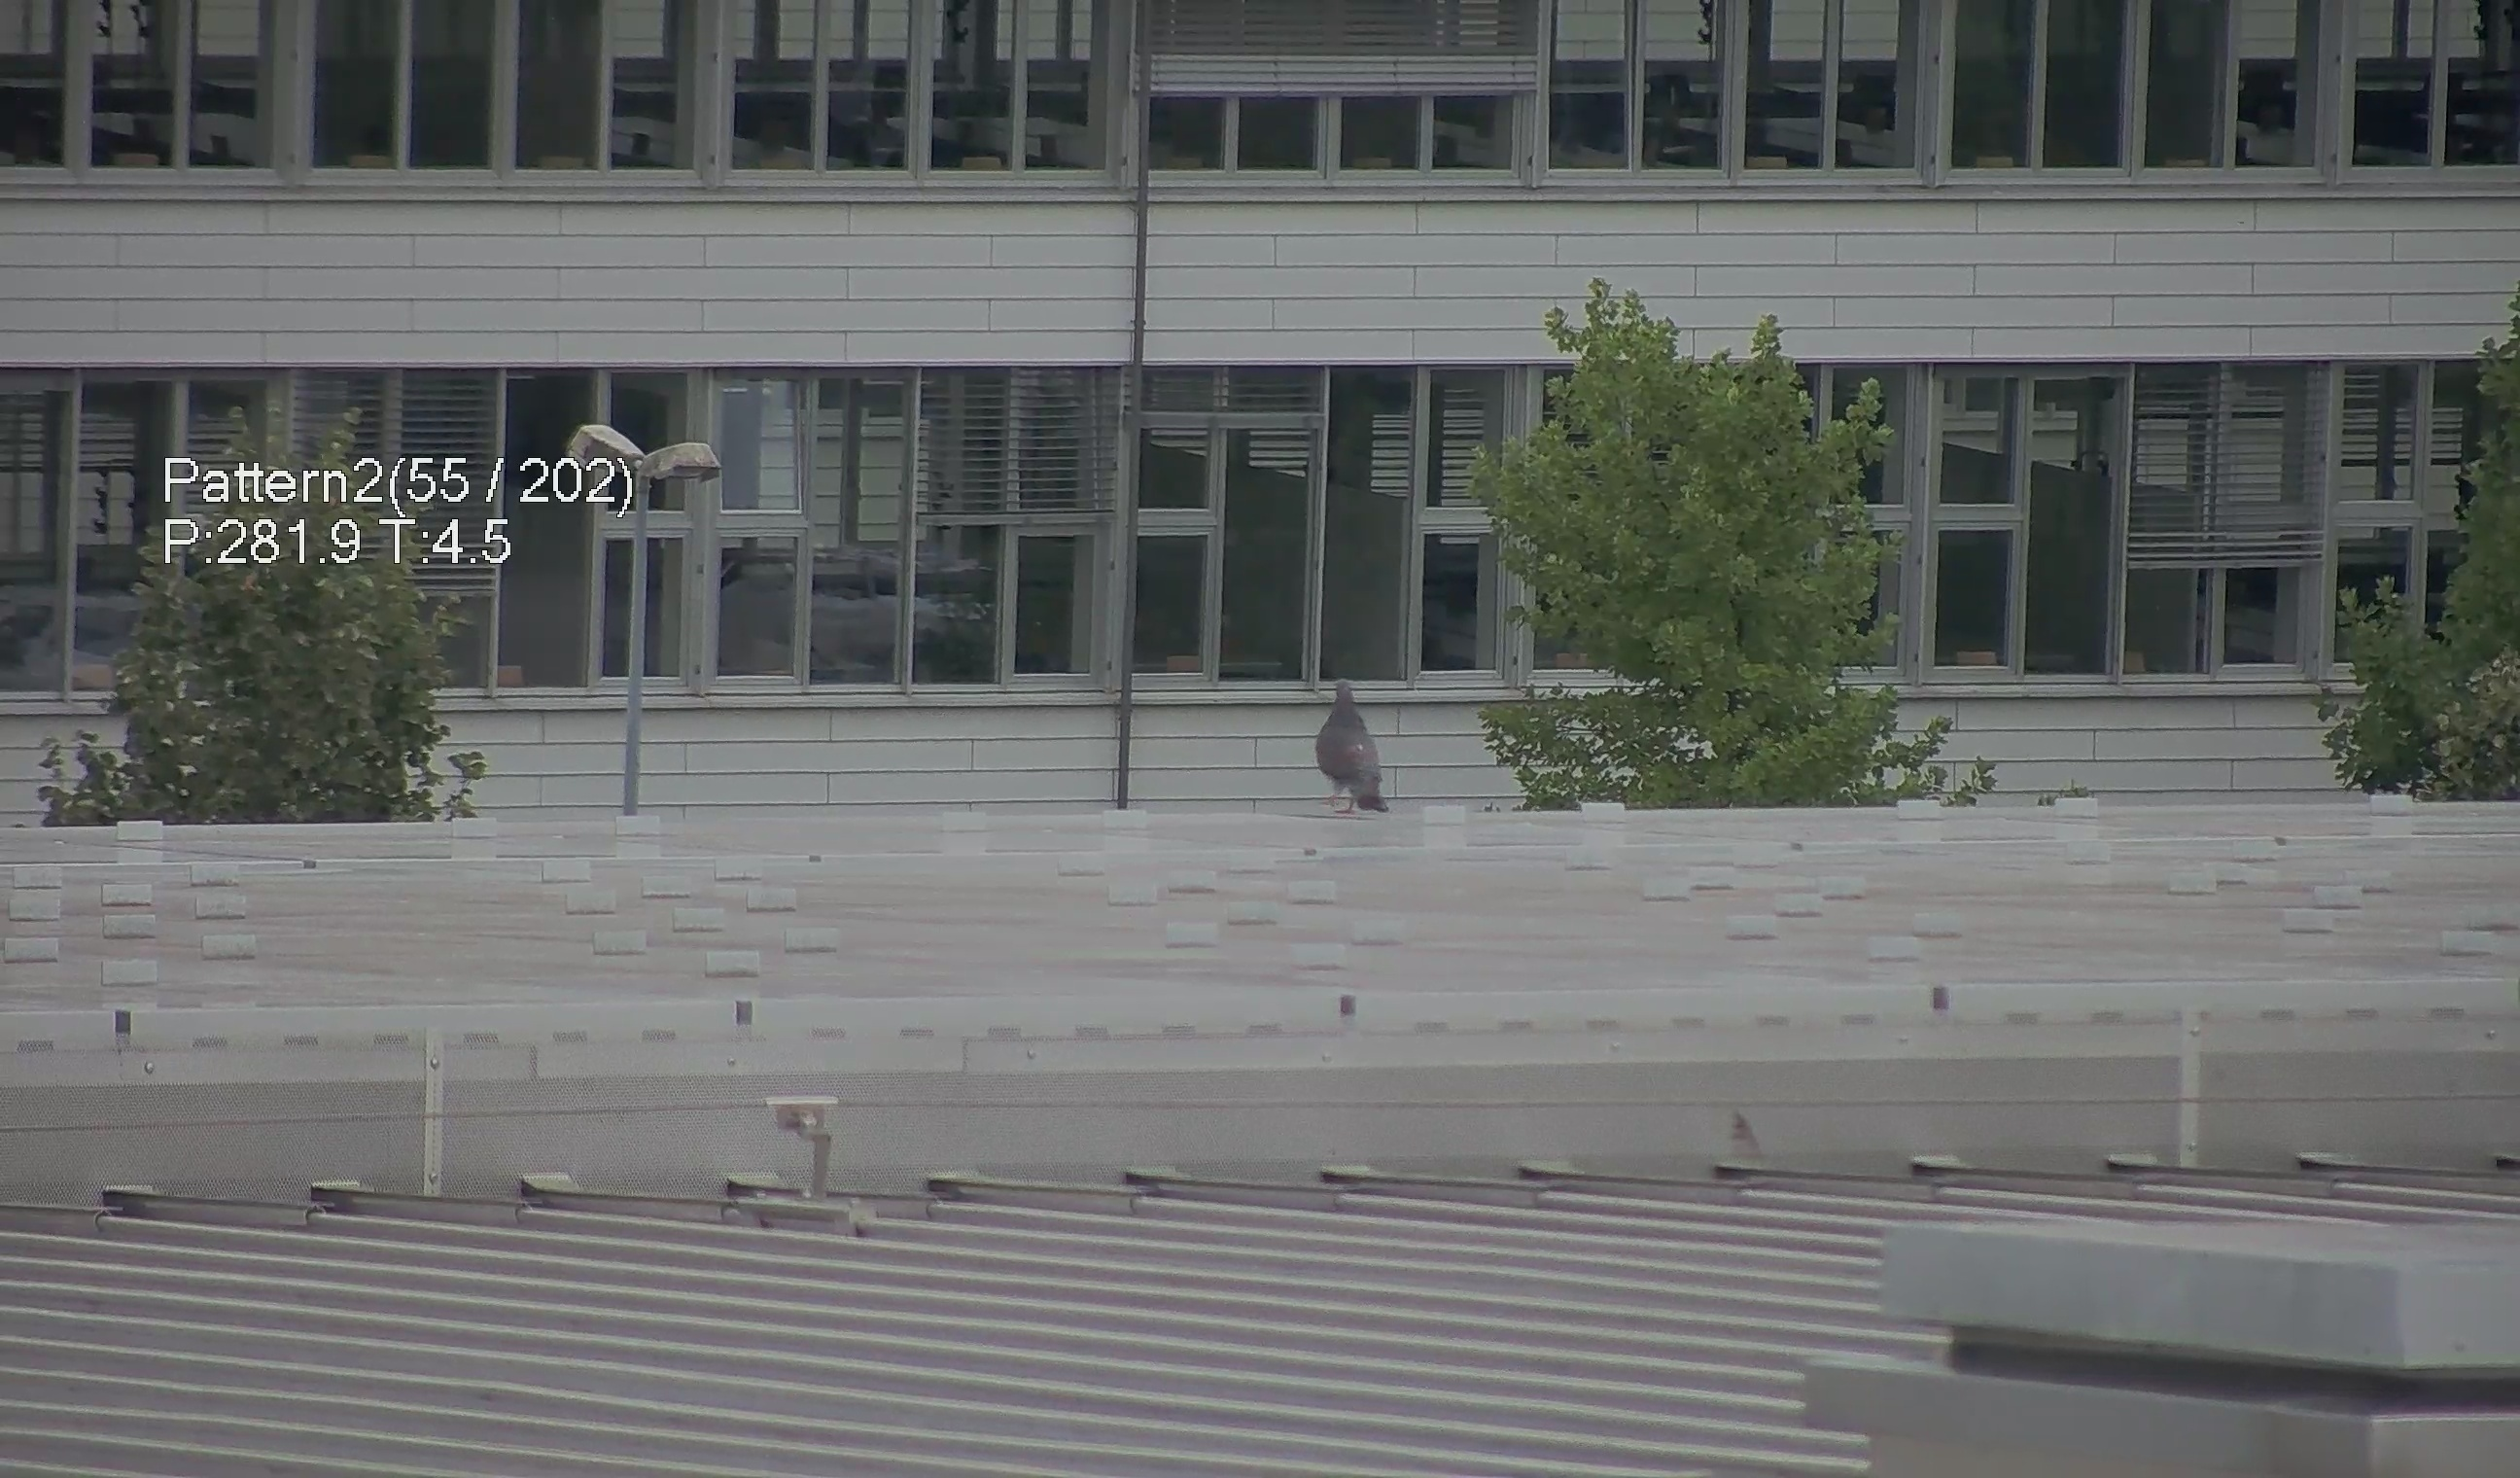Pigeon: (1296, 665, 1405, 829)
